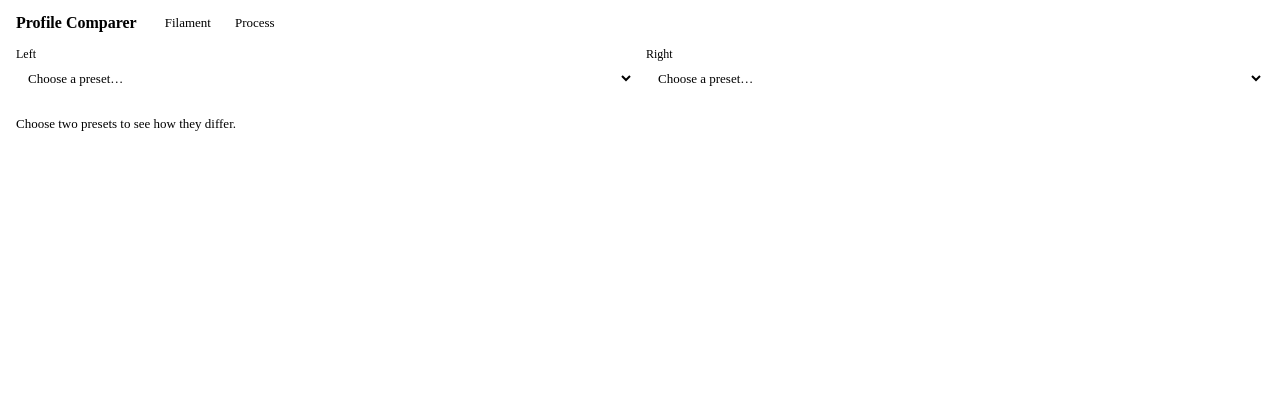
Test: editing › explains a one-click copy that changes nothing
Select "PLA — User" in the dropdown labelled "Left": (325, 78) [16,66,634,91]
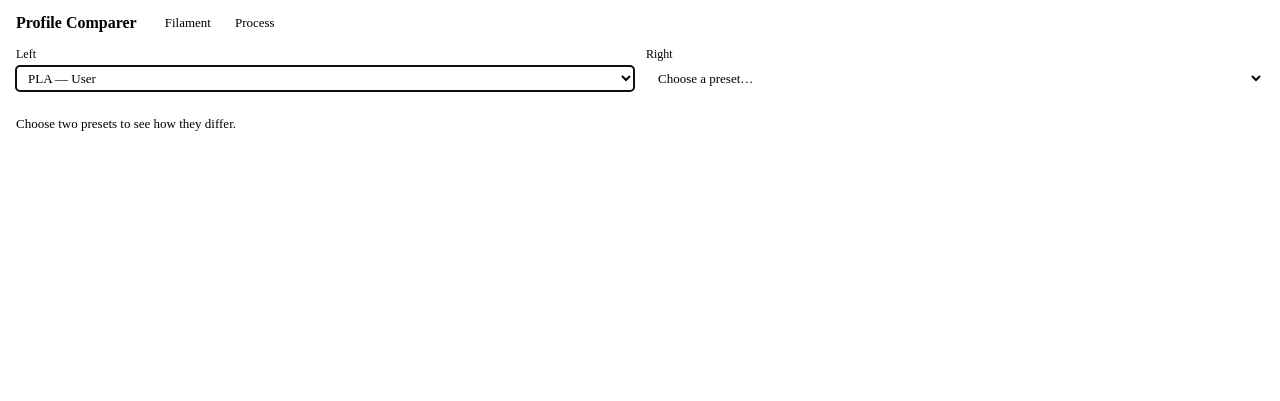
Select "PETG — User" in the dropdown labelled "Right": (955, 78) [646,66,1264,91]
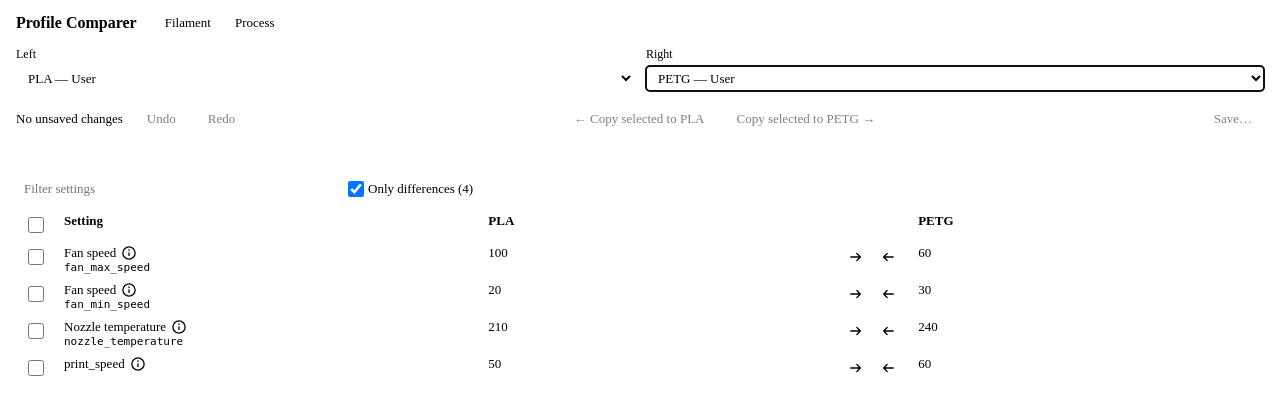
Click the button named "Copy print_speed to PETG": (856, 368) [840,352,872,384]
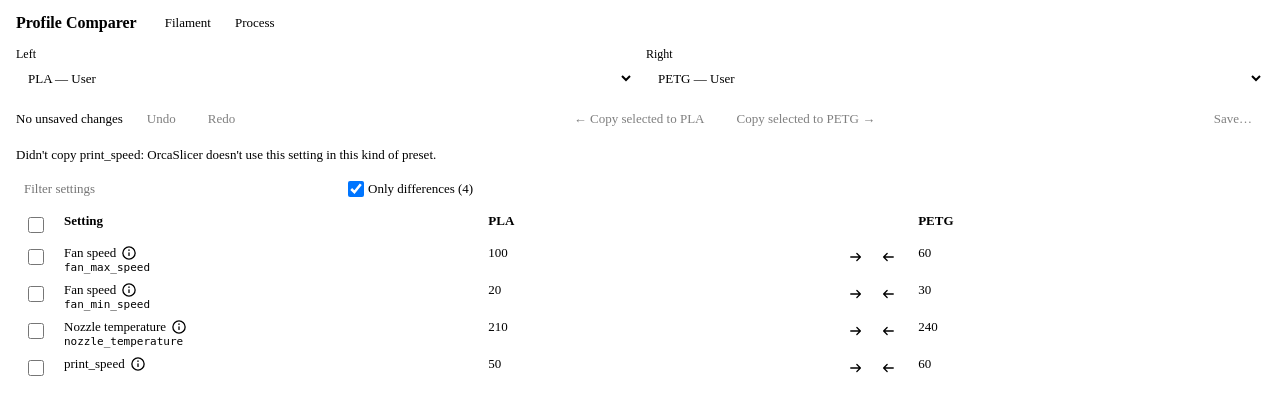
expect the text "No unsaved changes" is shown: met, box [16,111,123,127]
expect the message shows "Didn't copy print_speed: OrcaSlicer doesn't use this setting in this kind of preset.": met, box [16,147,436,162]
